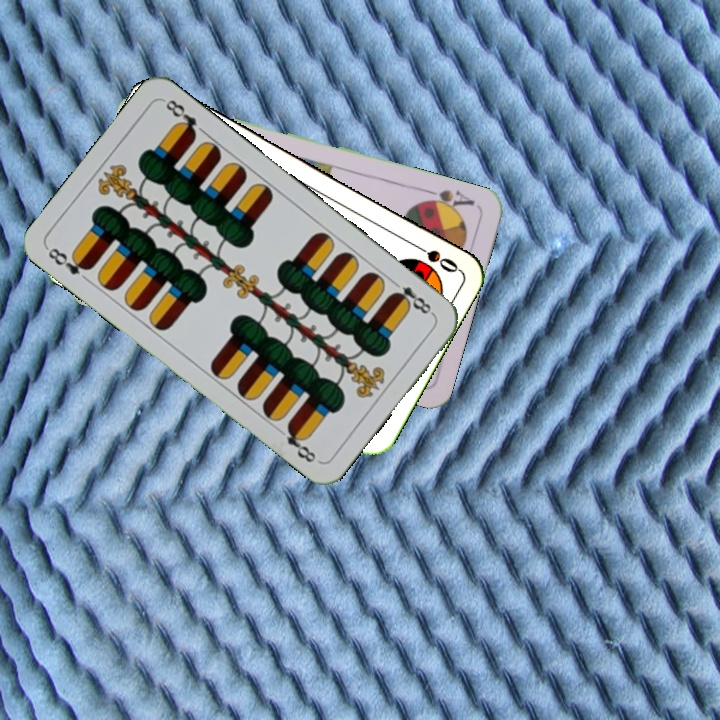E8: (387, 276, 437, 318), (43, 243, 95, 278)
SA: (418, 185, 478, 216)
SO: (407, 238, 461, 276)
